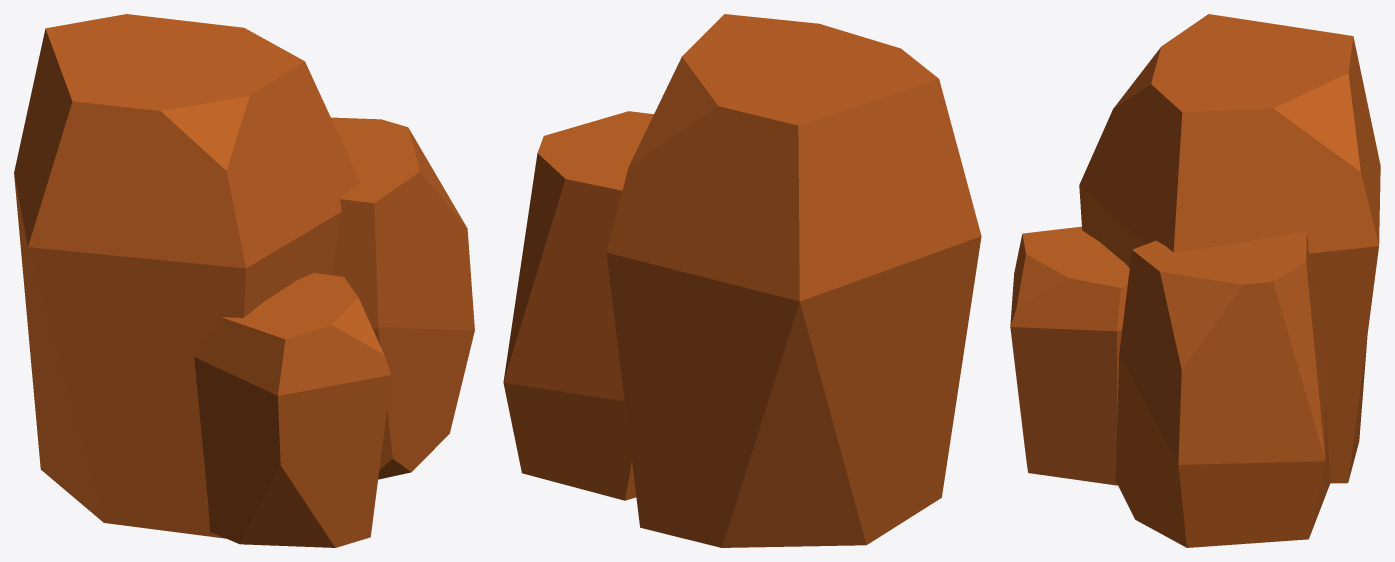
File: Mountain-col.glb
3 views of the same model, side by side, from view 1: azimuth 30°, elevation 25°; view 2: azimuth 150°, elevation 25°; view 3: azimuth 270°, elevation 25° (orthographic). The views are drawn at different scales.
Parts seen in each view (by area): view 1: Mountain-col; view 2: Mountain-col; view 3: Mountain-col.
Boxes of the visible parts, box(x1,y1,x2,y2) form: Mountain-col: box(14, 14, 474, 547); Mountain-col: box(503, 14, 981, 547); Mountain-col: box(1010, 14, 1380, 547).
Size of the model in its own units: 5.5 by 5.16 by 4.56.
